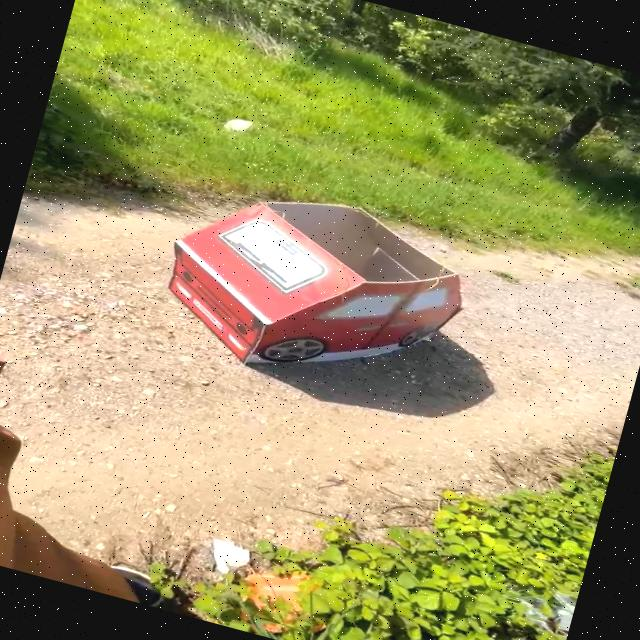red_car: (122, 151, 506, 436)
